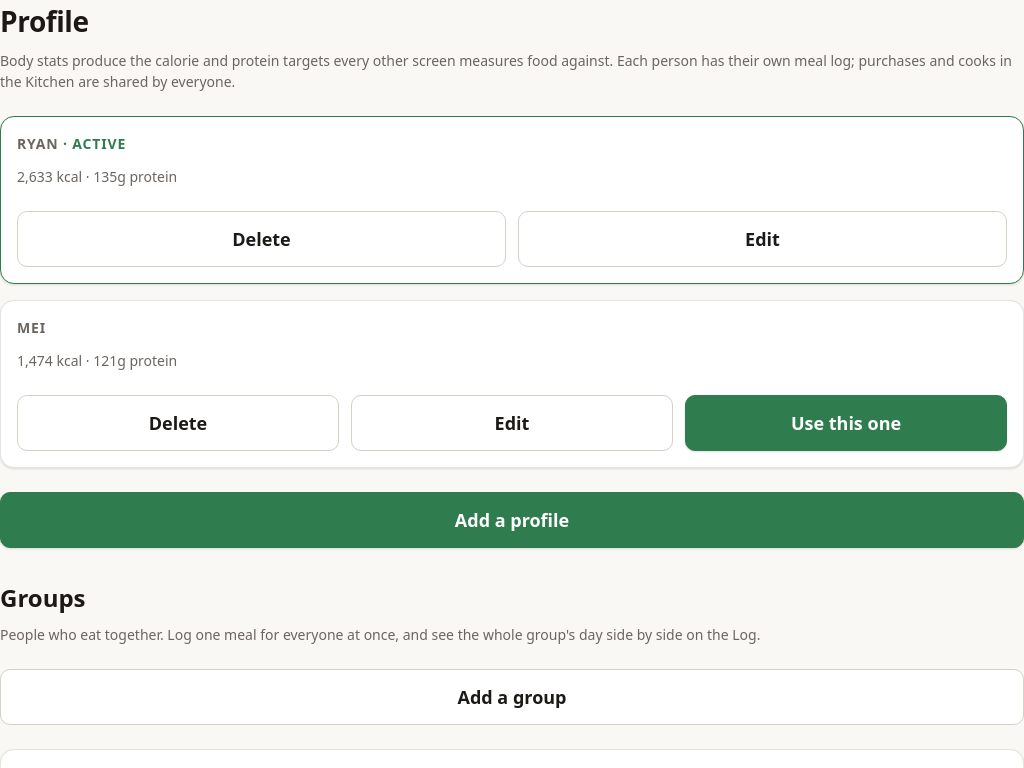
Test: ProfileScreen editing and adding › opens the chosen profile filled in for editing
Click the button "Edit" below "121". click: click(512, 423)
box: [351,395,673,451]
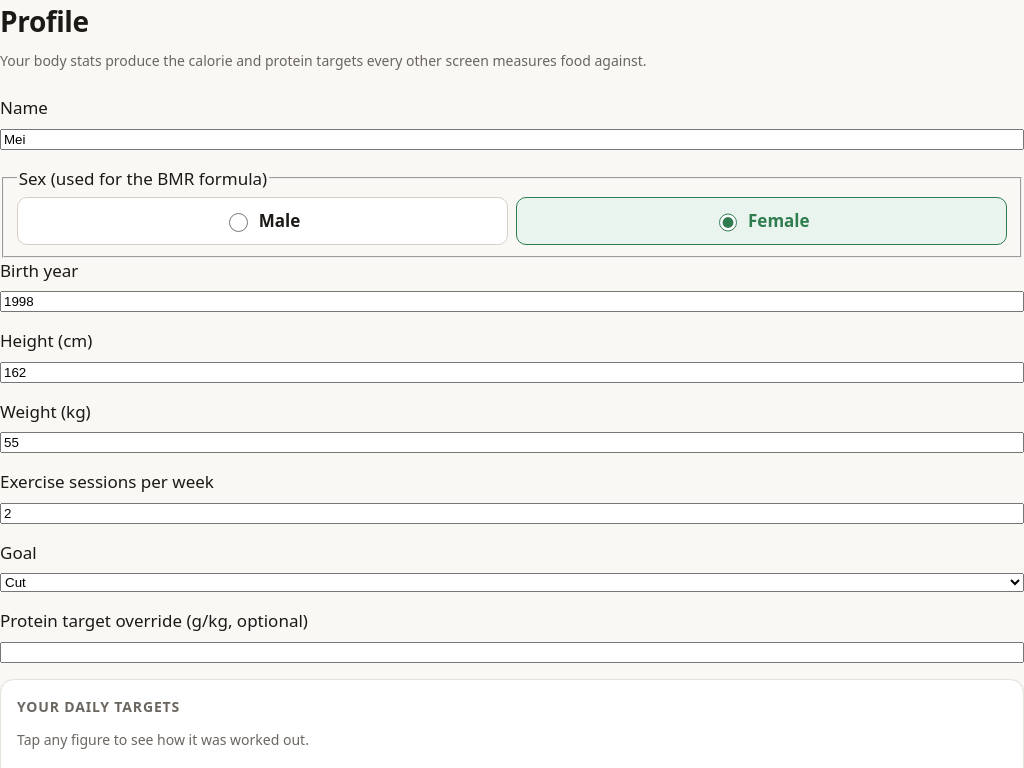
Check: the field labelled "Name" holds "Mei", box [0,128,1023,150]
